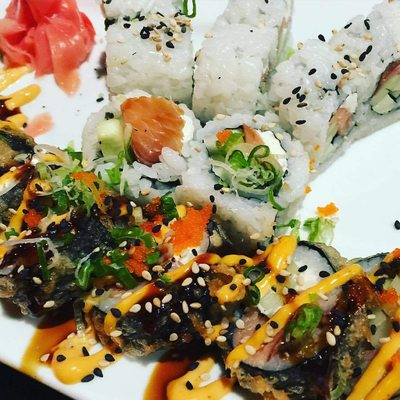sandwich: (0, 8, 399, 400)
